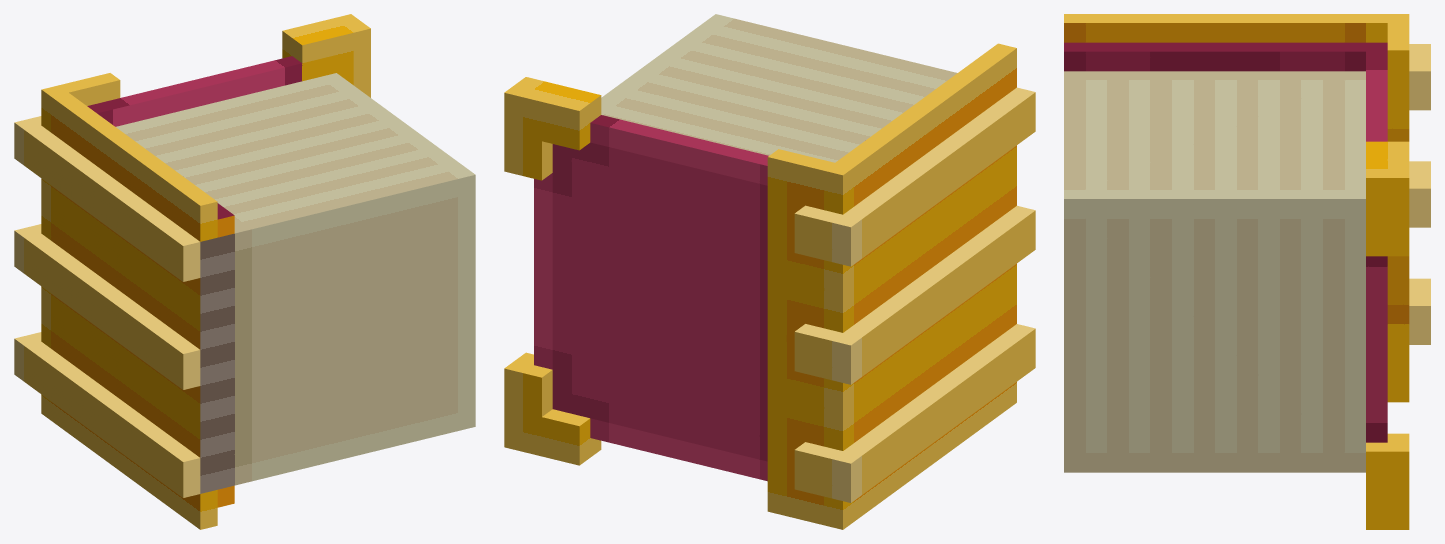
File: tome_bao.fezao.glb
The picture shows the model from 3 angles, left to right: view 1: azimuth 30°, elevation 25°; view 2: azimuth 150°, elevation 25°; view 3: azimuth 270°, elevation 25°; orthographic projection. The views are drawn at different scales.
Parts seen in each view (by area): view 1: TOME_BAO; view 2: TOME_BAO; view 3: TOME_BAO.
Boxes of the visible parts, x1,y1,x2,y2 form: TOME_BAO: (14, 14, 475, 529); TOME_BAO: (504, 14, 1035, 529); TOME_BAO: (1064, 14, 1430, 529).
Size of the model in its own units: 1.19 by 1.12 by 1.06.
1 material, 1 textured.
